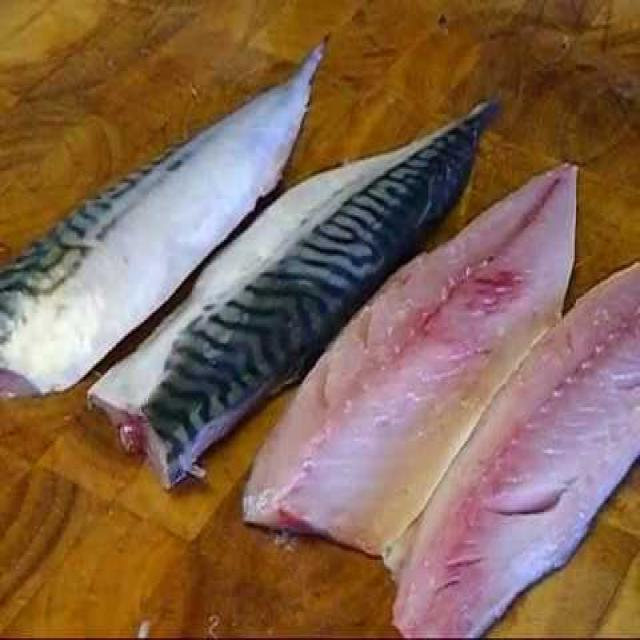Mackerel: (89, 103, 496, 486), (245, 167, 575, 554), (0, 46, 324, 394), (386, 263, 640, 636)
